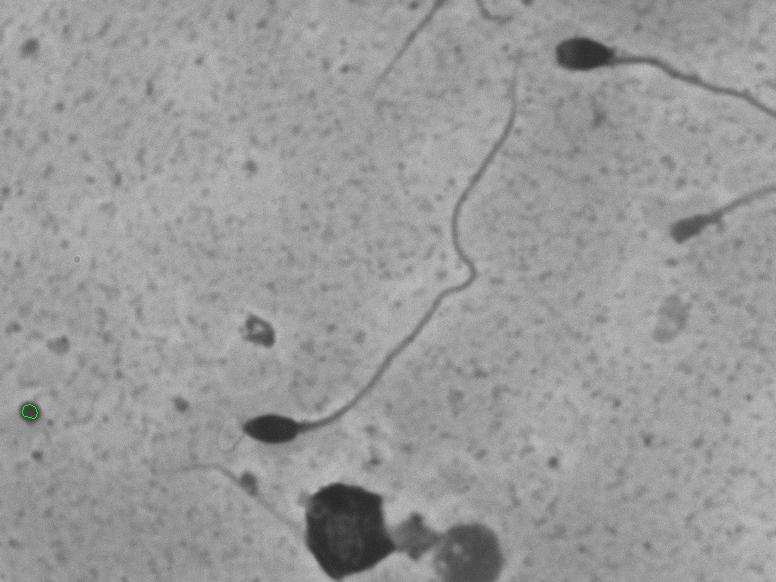Abnormal: (230, 35, 537, 471)
